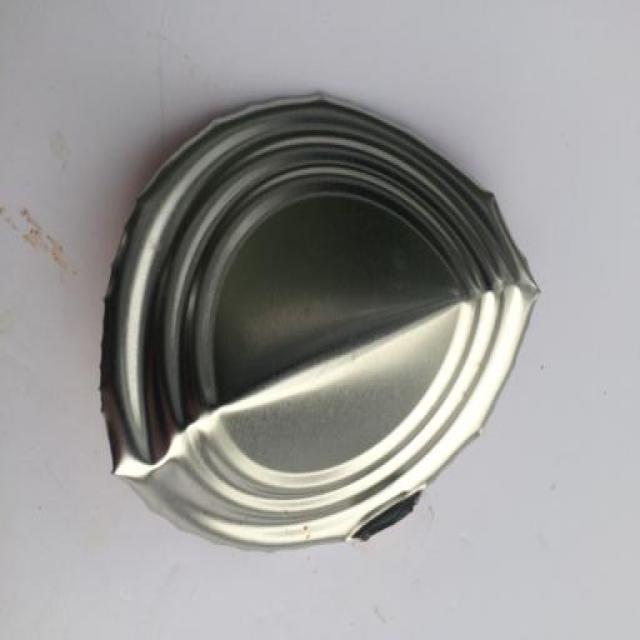metal: (96, 87, 546, 556)
